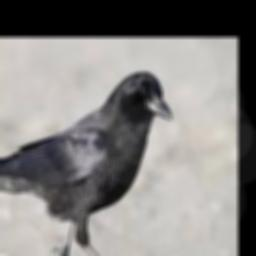Crow: (0, 71, 171, 256)
